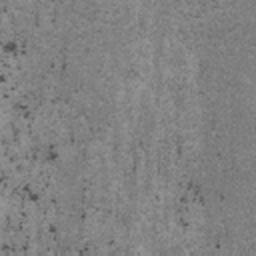Oxide scale of temperature system: (0, 40, 116, 256), (152, 180, 225, 233), (50, 61, 69, 73), (177, 143, 183, 159), (131, 161, 138, 174), (215, 151, 223, 160), (215, 239, 221, 250)
